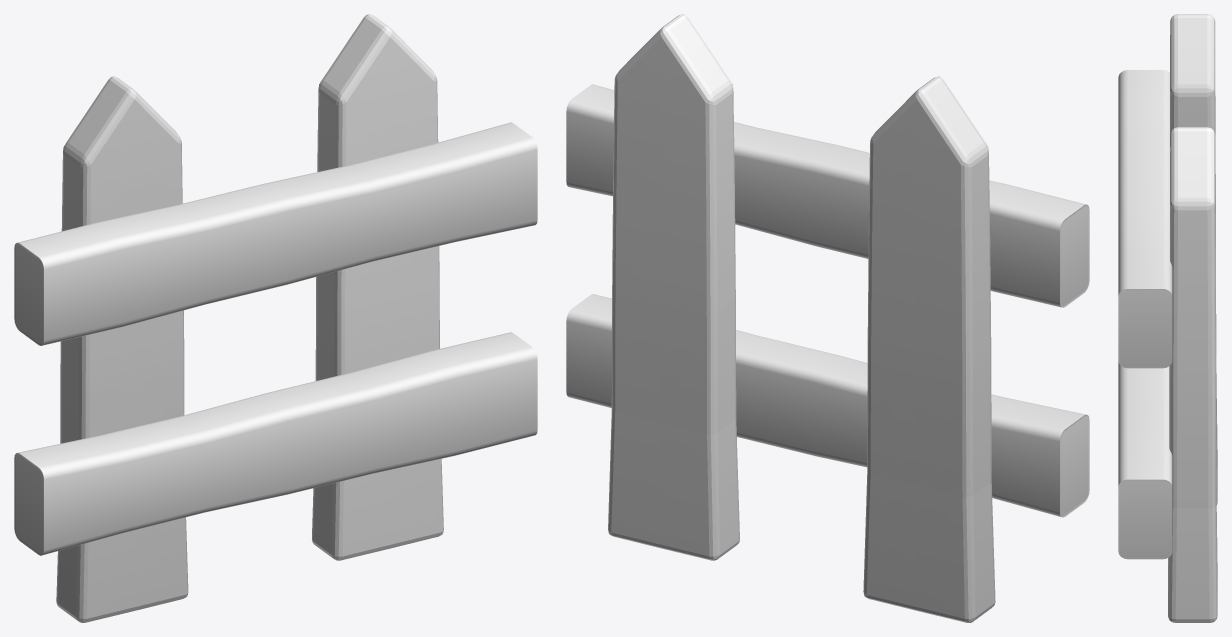
The model's file is Valla walk.fbx.
The picture shows the model from 3 angles, left to right: view 1: azimuth 30°, elevation 25°; view 2: azimuth 150°, elevation 25°; view 3: azimuth 270°, elevation 25°; orthographic projection. The views are drawn at different scales.
Visible parts, largest first — view 1: Cube.021; view 2: Cube.021; view 3: Cube.021.
Boxes of the visible parts, x1,y1,x2,y2 form: Cube.021: [14, 14, 537, 622]; Cube.021: [566, 14, 1089, 622]; Cube.021: [1118, 14, 1217, 622].
Bounding box in the file's own units: 0.9625 × 0.1845 × 0.9696.
